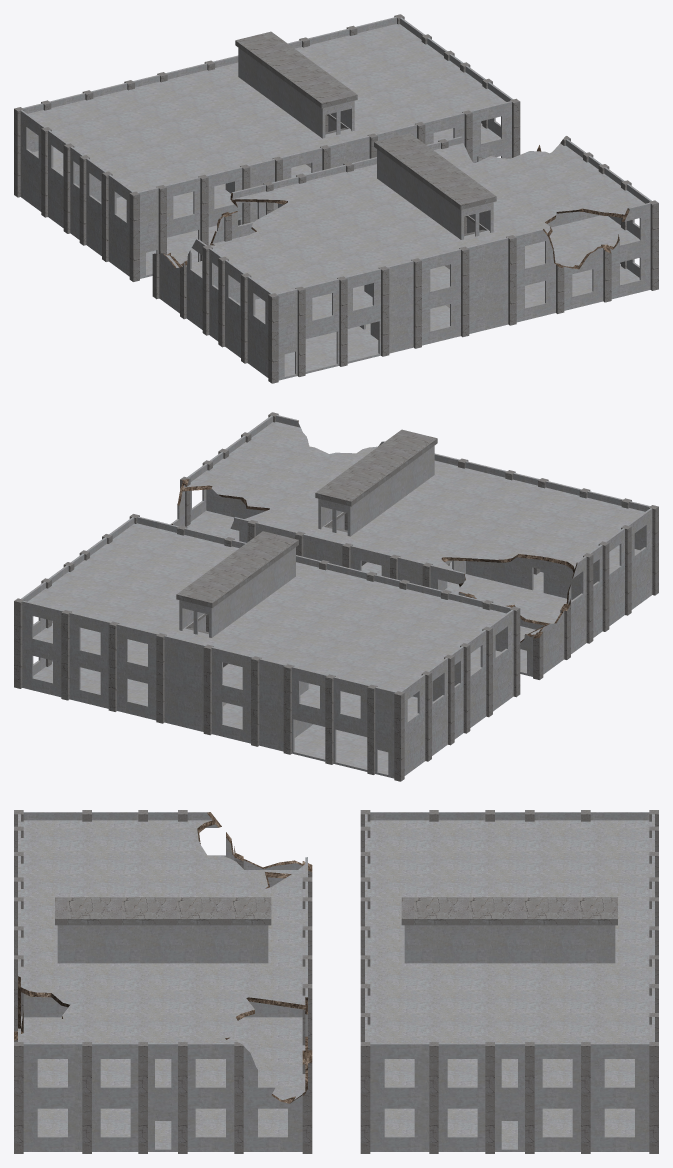
Rendered from IndustrialBuildings.fbx.
The picture shows the model from 3 angles, top to bottom: view 1: azimuth 30°, elevation 25°; view 2: azimuth 150°, elevation 25°; view 3: azimuth 270°, elevation 25°; orthographic projection. The views are drawn at different scales.
Visible parts, largest first — view 1: IndustryBuilding1D, IndusrtyBuilding1; view 2: IndusrtyBuilding1, IndustryBuilding1D; view 3: IndusrtyBuilding1, IndustryBuilding1D.
Boxes of the visible parts, box(x1,y1,x2,y2) form: IndustryBuilding1D: box(152, 133, 658, 383); IndusrtyBuilding1: box(14, 14, 520, 281); IndusrtyBuilding1: box(14, 514, 520, 781); IndustryBuilding1D: box(170, 412, 658, 679); IndusrtyBuilding1: box(360, 810, 658, 1153); IndustryBuilding1D: box(14, 810, 312, 1153).
Size of the model in its own units: 4080 by 1175 by 4715.
